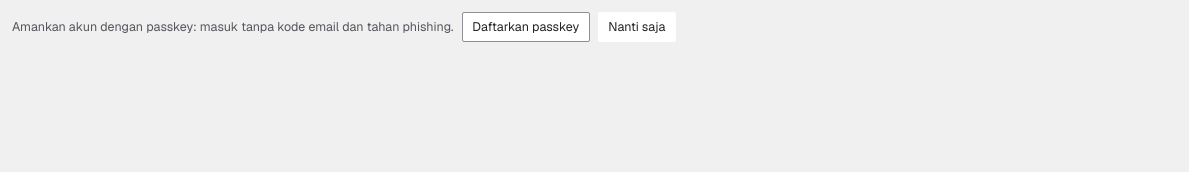
passkey nudge › says so when the device or the instance refuses, without leaking the provider's message
The image size is (1189, 172).
Click the button "Daftarkan passkey" at (526, 27), box [462,12,590,42]
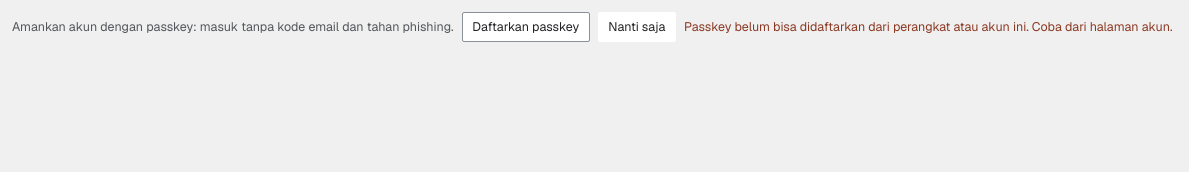
Now the message shows "belum bisa didaftarkan", box [684,18,1172,35]
